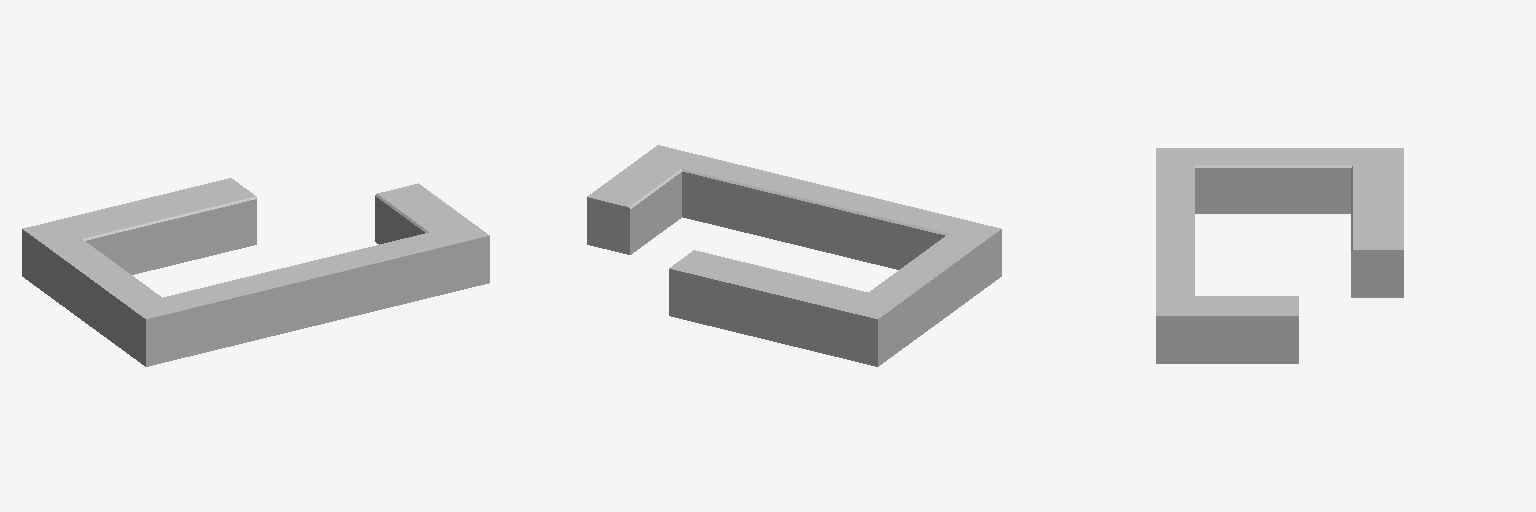
Rendered from Counter.obj.
3 renders of one model, left to right at view 1: azimuth 30°, elevation 25°; view 2: azimuth 150°, elevation 25°; view 3: azimuth 270°, elevation 25°, orthographic.
Parts seen in each view (by area): view 1: Counter; view 2: Counter; view 3: Counter.
Part boxes in pixels (x1,y1,x2,y2): Counter: (22, 178, 489, 366); Counter: (587, 145, 1001, 366); Counter: (1156, 148, 1403, 363).
Bounding box in the file's own units: 4.85 × 0.6425 × 3.03.